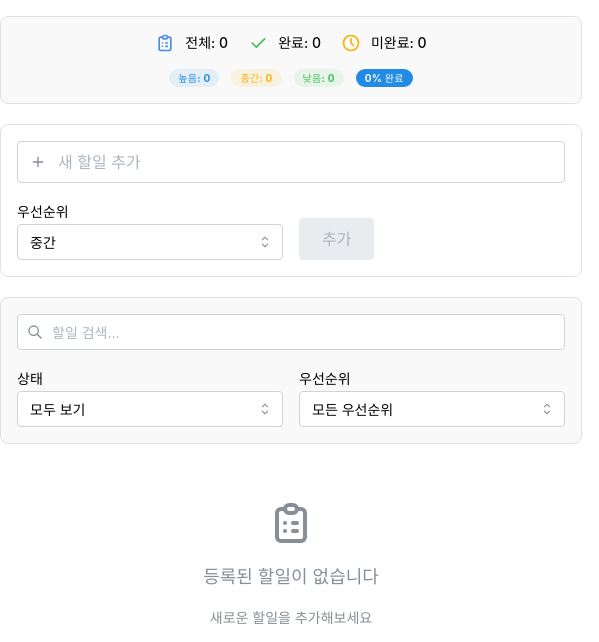
Test: Todo 통합 테스트 › Todo 추가, 토글, 삭제 전체 플로우가 작동해야 함
Type "테스트 할일" into the field with placeholder "새 할일 추가".
click(291, 162); type("테스트 할일")  # box [17,141,565,183]
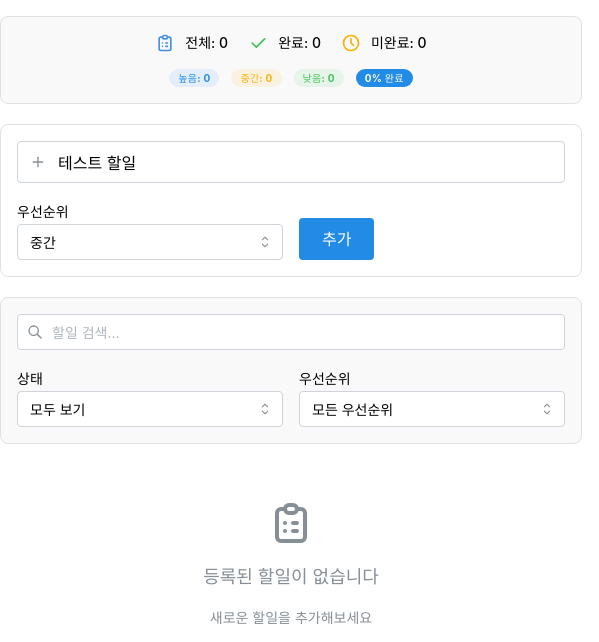
Click the button "추가".
click(337, 239)  # box [299,218,374,260]
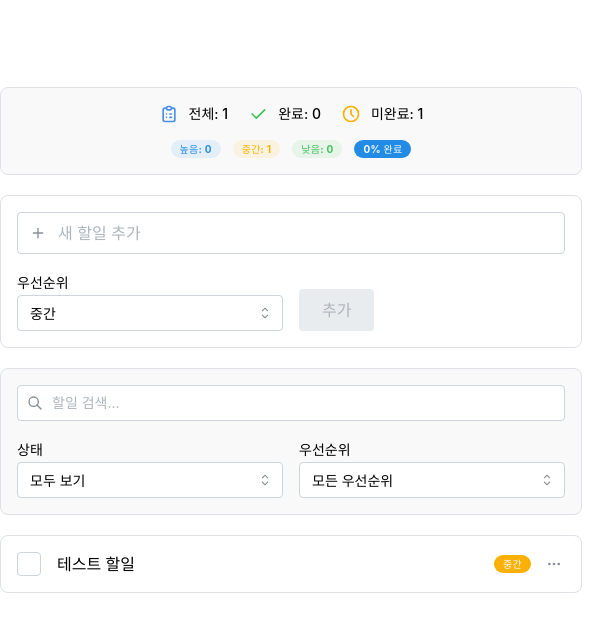
Expected: the text "테스트 할일" is shown, [57,554,135,574]
Expected: the text "전체: 1" is shown, [189,104,228,124]
Expected: the text "미완료: 1" is shown, [371,104,423,124]
Click the checkbox.
click(29, 564)  # box [17,552,41,576]
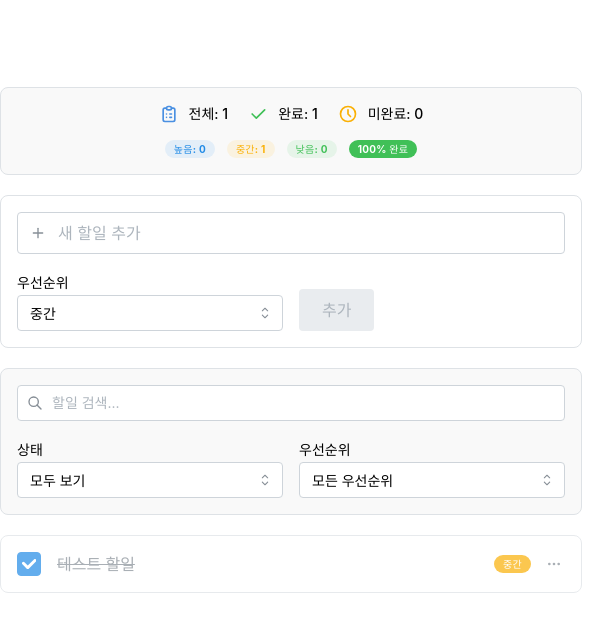
Expected: the text "완료: 1" is shown, [278,104,318,124]
Expected: the text "미완료: 0" is shown, [368,104,423,124]
